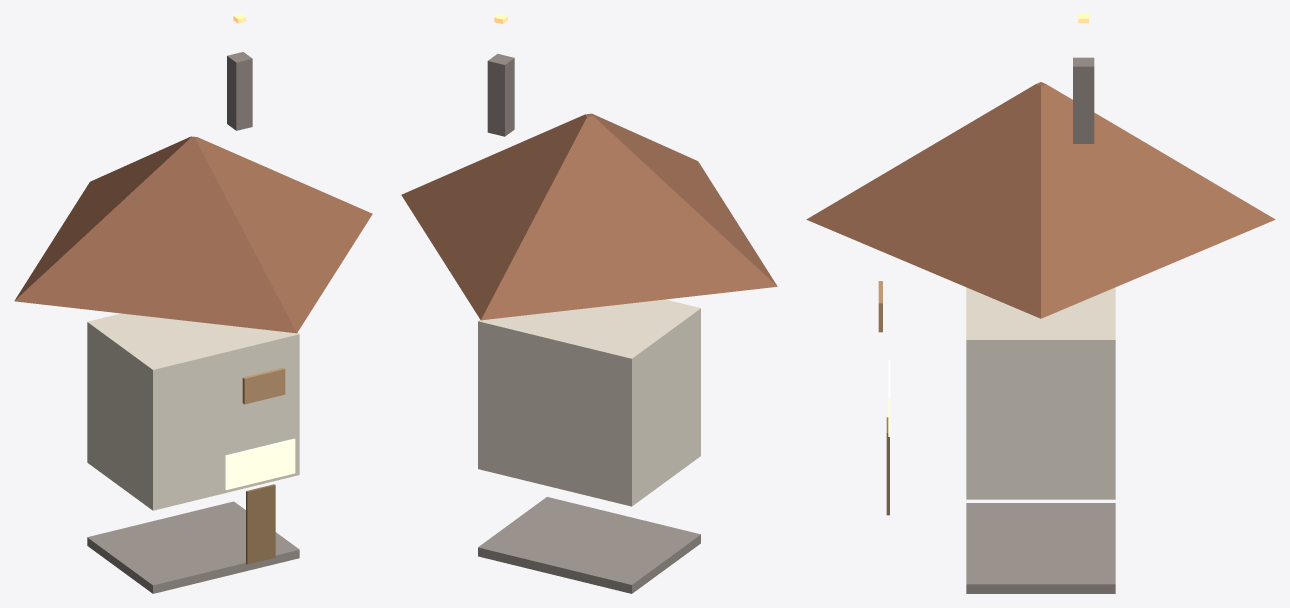
Rendered from VillageBakery.fbx.
3 renders of one model, left to right at view 1: azimuth 30°, elevation 25°; view 2: azimuth 150°, elevation 25°; view 3: azimuth 270°, elevation 25°, orthographic. The views are drawn at different scales.
Visible parts, largest first — view 1: VillageBakery; view 2: VillageBakery; view 3: VillageBakery.
Boxes of the visible parts, x1,y1,x2,y2 form: VillageBakery: (14, 14, 372, 593); VillageBakery: (401, 14, 777, 593); VillageBakery: (806, 14, 1275, 593).
Bounding box in the file's own units: 4.4 × 5.93 × 4.4.
